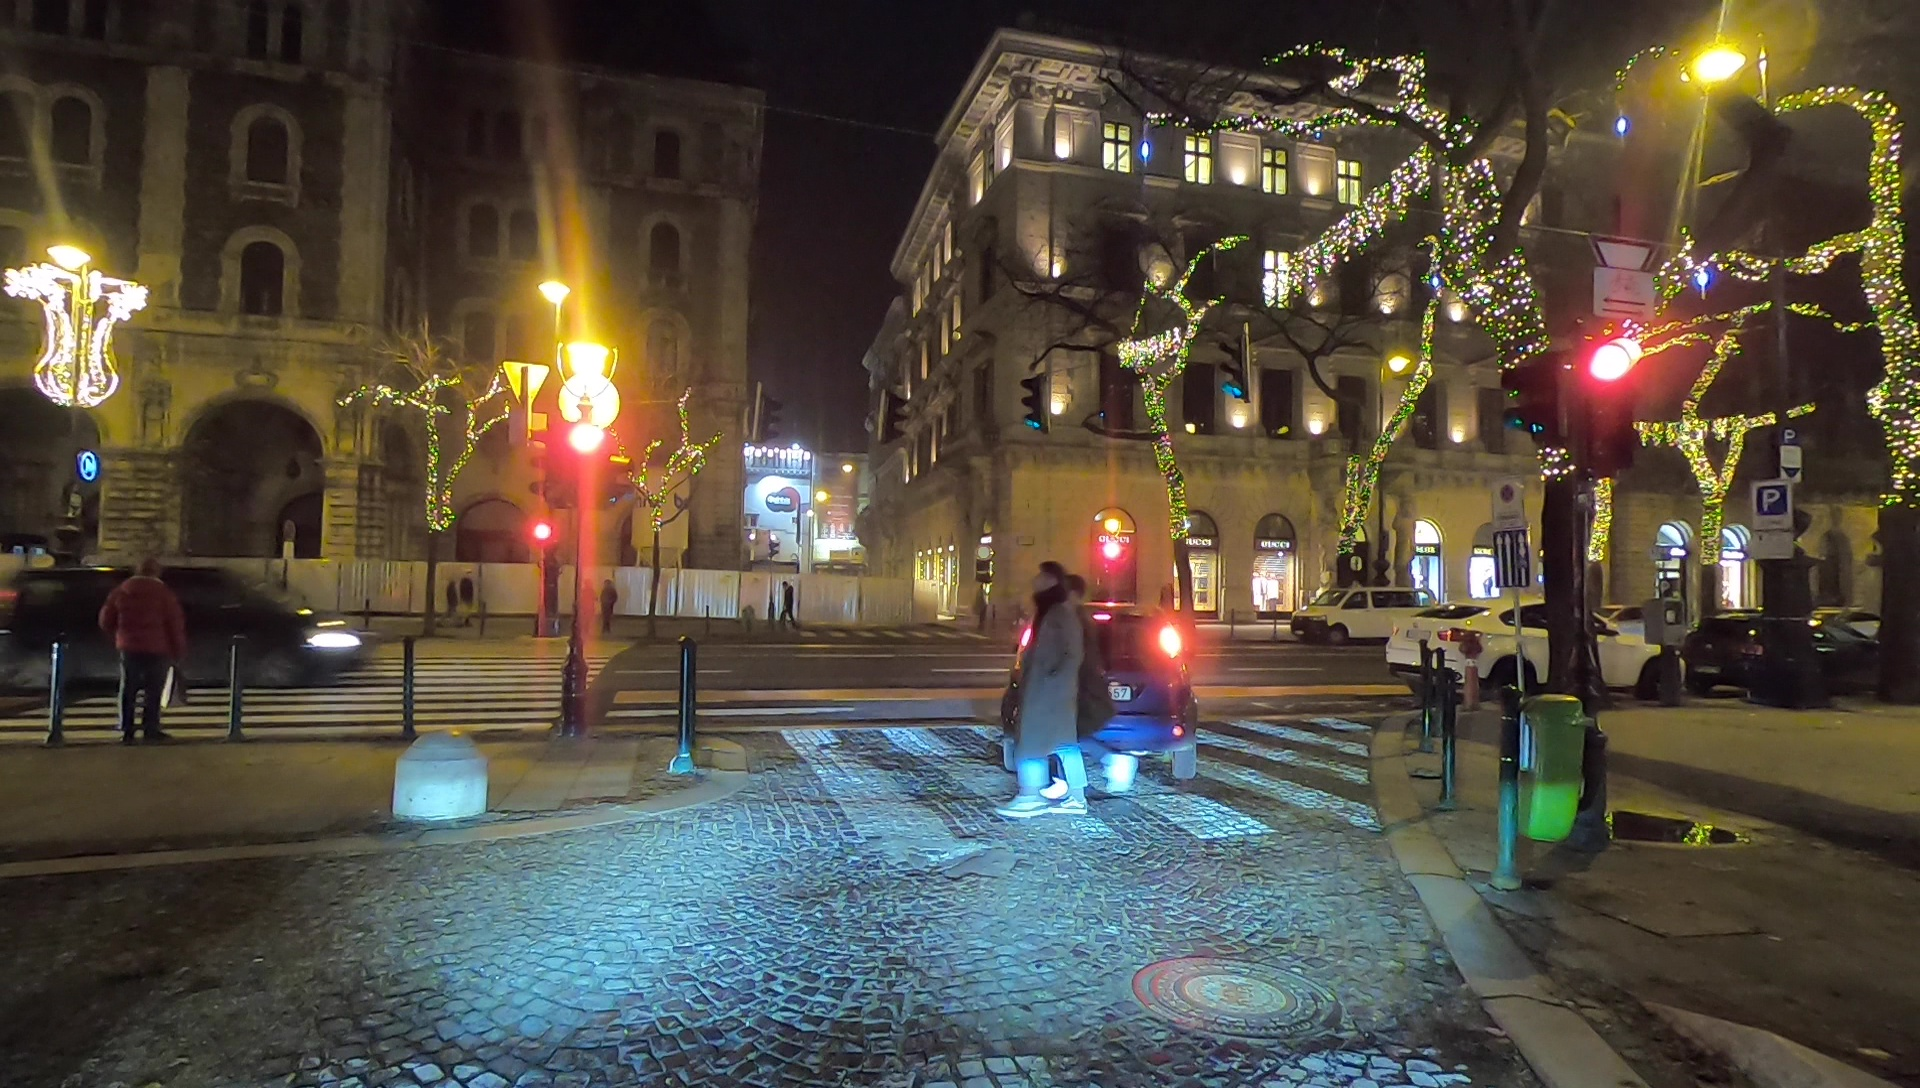person: (1004, 558, 1093, 821), (101, 554, 189, 737), (576, 579, 597, 642), (456, 569, 476, 629), (599, 577, 617, 640), (780, 582, 794, 626)
